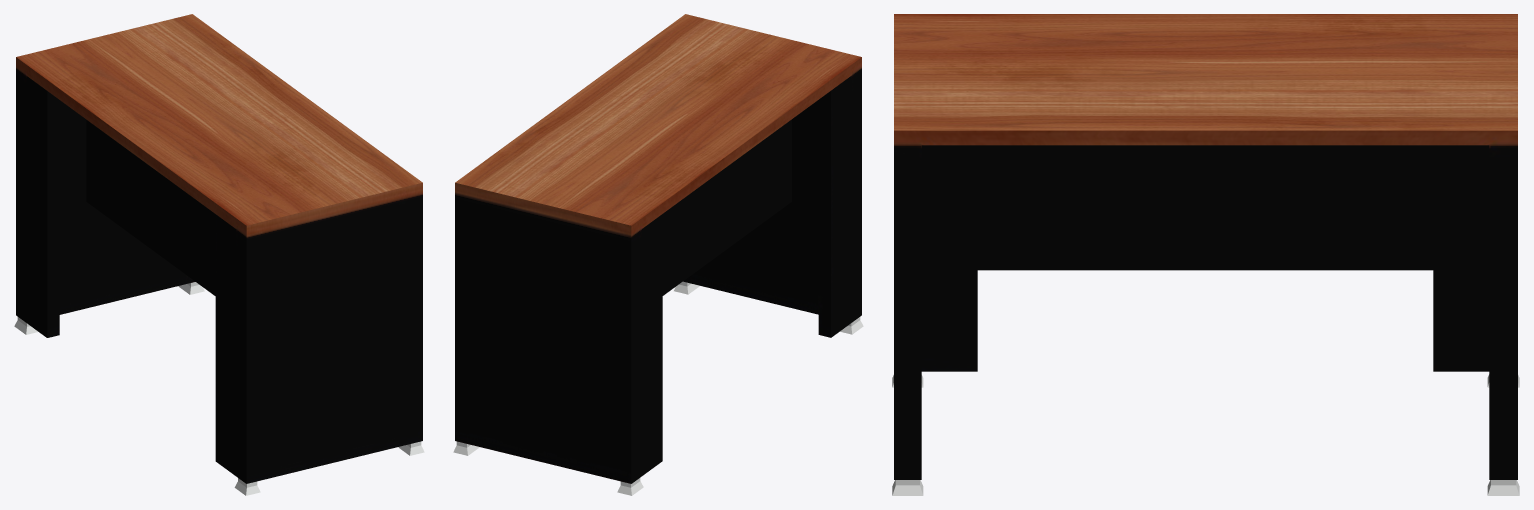
Rendered from mesa1.glb.
3 views of the same model, side by side, from view 1: azimuth 30°, elevation 25°; view 2: azimuth 150°, elevation 25°; view 3: azimuth 270°, elevation 25° (orthographic). The views are drawn at different scales.
Parts seen in each view (by area): view 1: mesa 1_export; view 2: mesa 1_export; view 3: mesa 1_export.
Part boxes in pixels (bbox=[...]): mesa 1_export: bbox=[14, 14, 424, 495]; mesa 1_export: bbox=[453, 14, 863, 495]; mesa 1_export: bbox=[892, 14, 1519, 495].
Bounding box in the file's own units: 2.78 × 4 × 6.24.
Materials: 1 (1 with a texture image).
